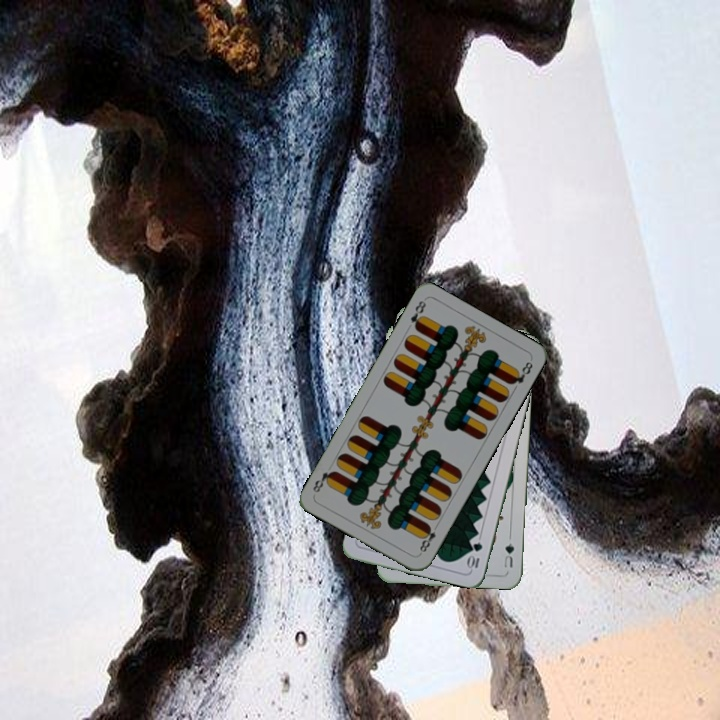E8: (415, 520, 441, 557), (406, 296, 429, 333)
G10: (464, 538, 485, 572)
GU: (500, 532, 517, 570)
